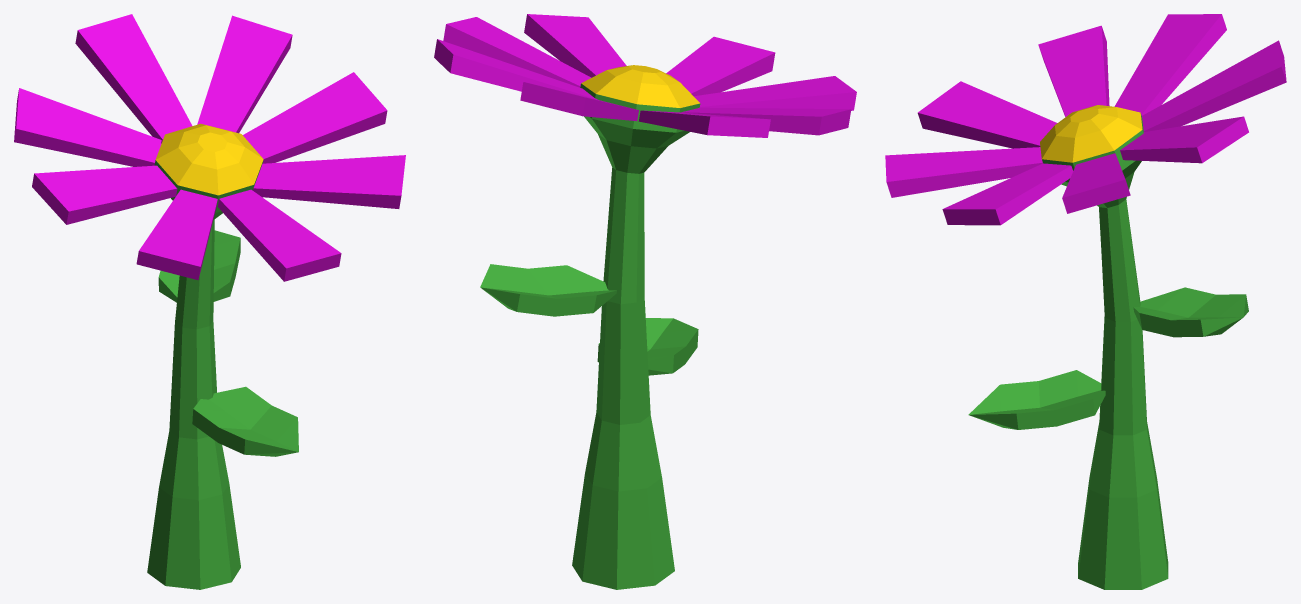
The model's file is flowerPink.glb.
The picture shows the model from 3 angles, left to right: view 1: azimuth 30°, elevation 25°; view 2: azimuth 150°, elevation 25°; view 3: azimuth 270°, elevation 25°; orthographic projection. The views are drawn at different scales.
Parts seen in each view (by area): view 1: Flower.002; view 2: Flower.002; view 3: Flower.002.
Boxes of the visible parts, <box> form: Flower.002: <box>14,14,405,589</box>; Flower.002: <box>434,14,856,589</box>; Flower.002: <box>885,14,1286,589</box>.
Size of the model in its own units: 18.92 by 26.84 by 19.08.
